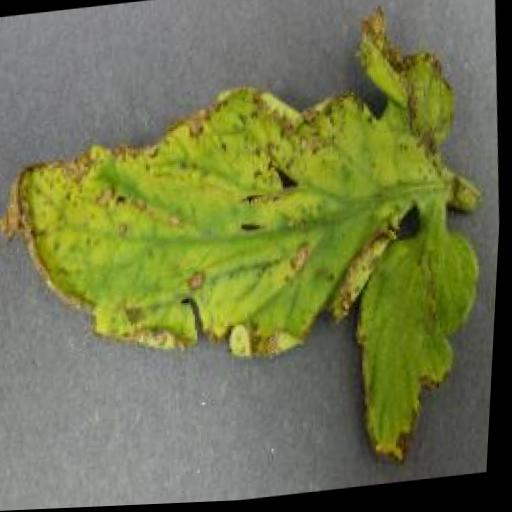Bacterial Spot: (0, 0, 510, 510)
